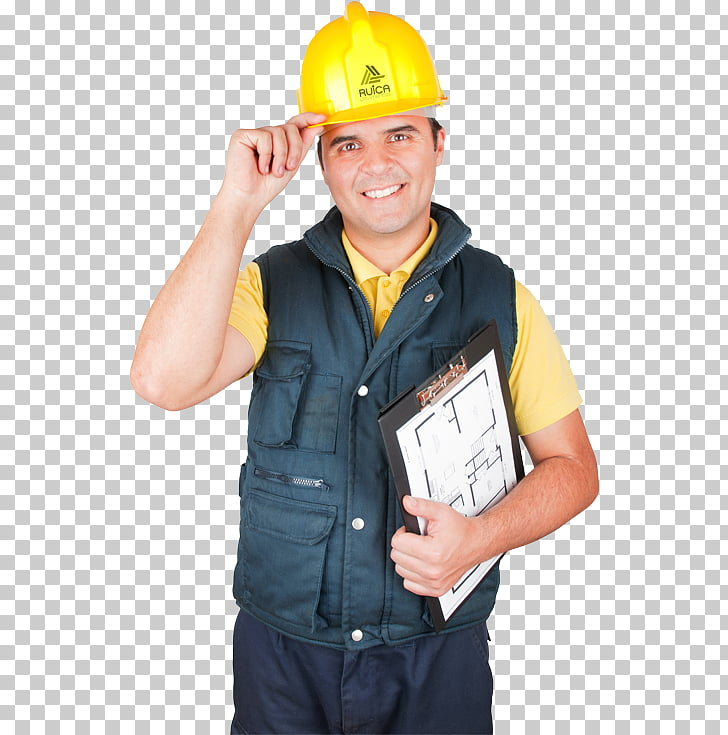casco: (297, 1, 449, 130)
